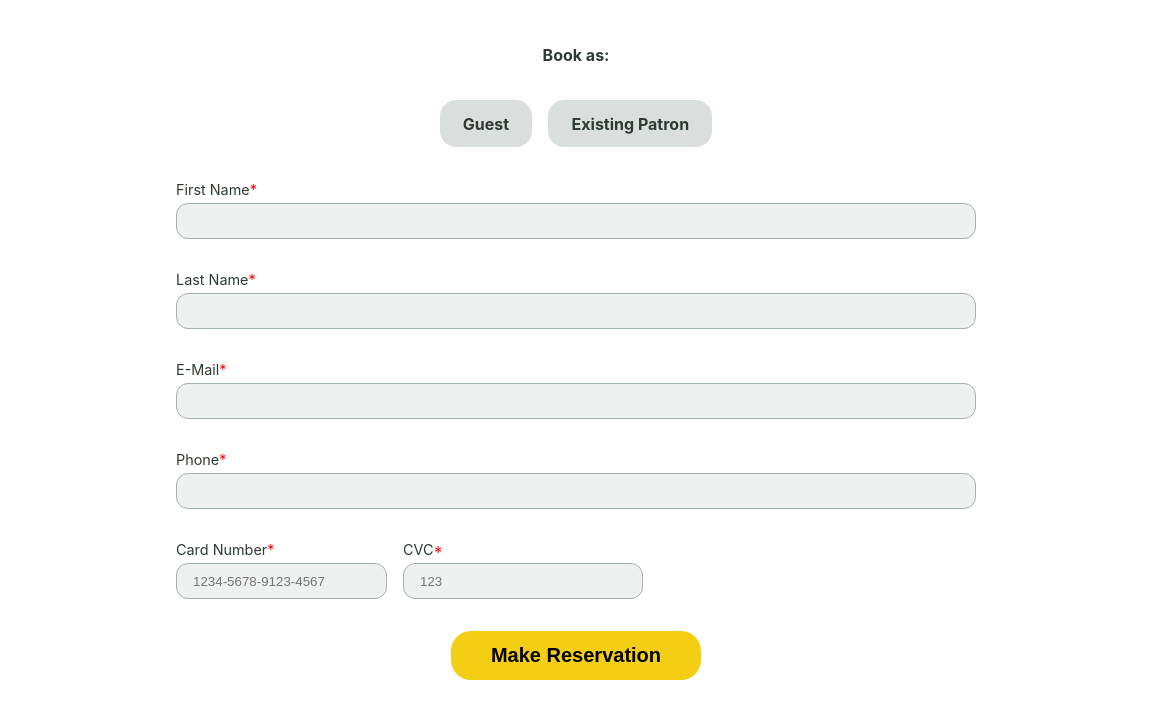
Test case: Yup validation rejects invalid phone number
(page scrolled)
Type "123" into the field labelled "Phone*" at (576, 491), box [176,473,976,509]
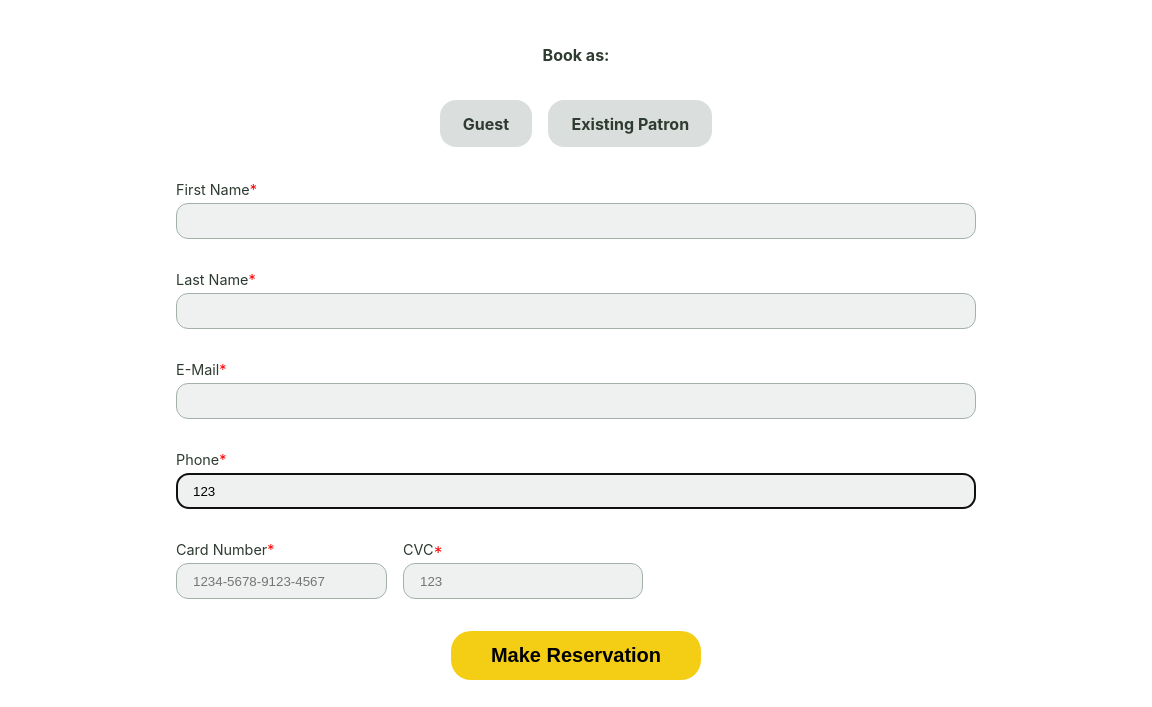
Click the button "Make Reservation" at (576, 656), box [451,631,701,680]
(page scrolled)
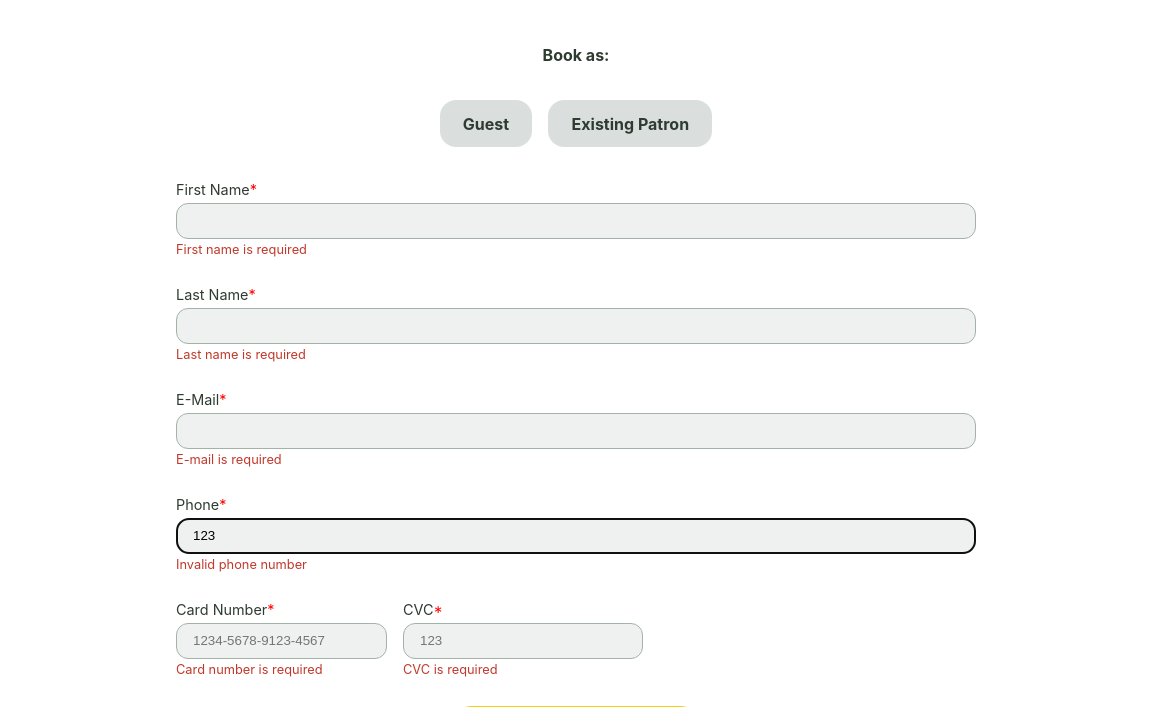
Check: the text "Invalid phone number" is shown, box [176,557,307,572]
